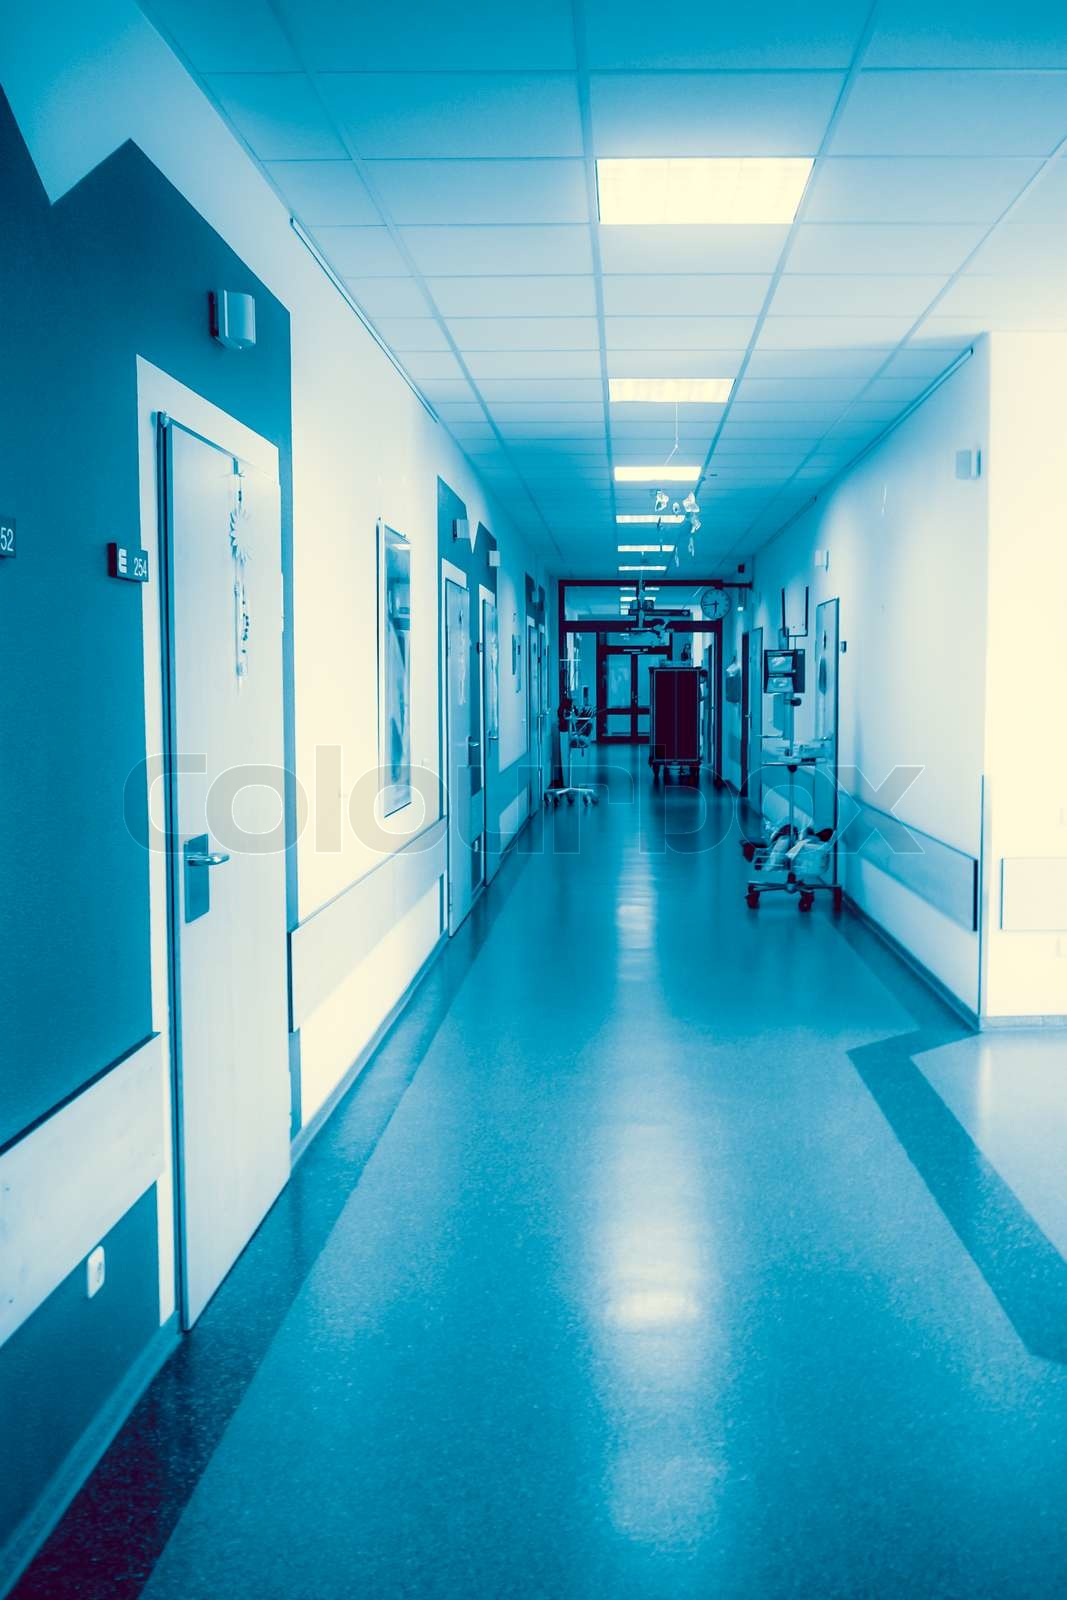door_handle: (185, 849, 233, 870), (488, 733, 499, 743), (468, 740, 479, 748)
